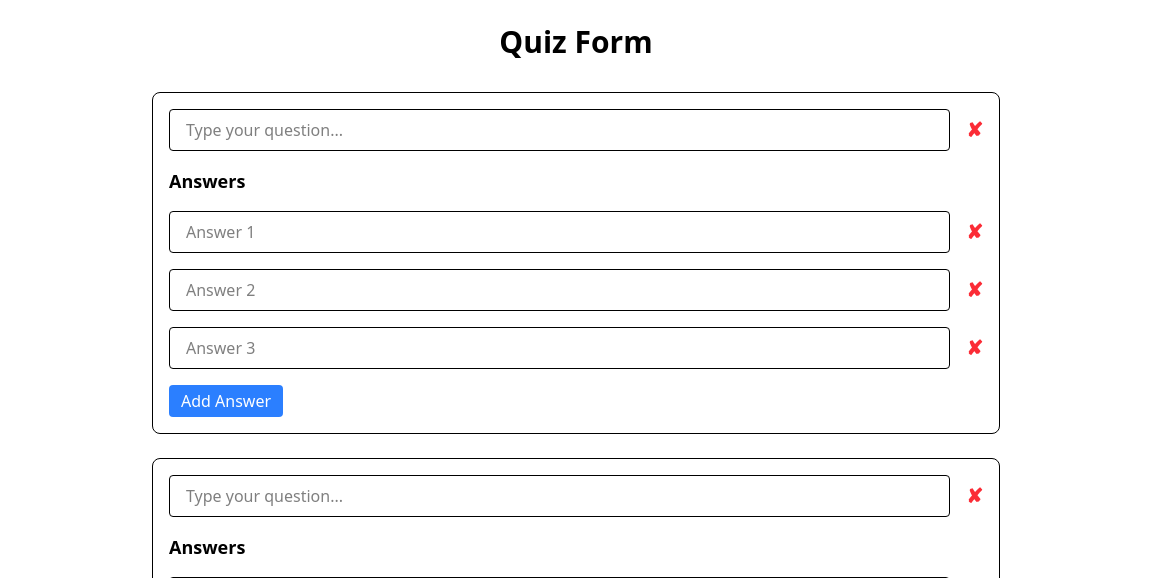
Test: Quiz Form E2E › Error Messages › Question Field Error Messages › should show error messages for question field when dirty
This screenshot has width=1152, height=578.
In the 1st field with placeholder "Type your question...": {"x": 560, "y": 130} [169,109,950,151], type "Q"
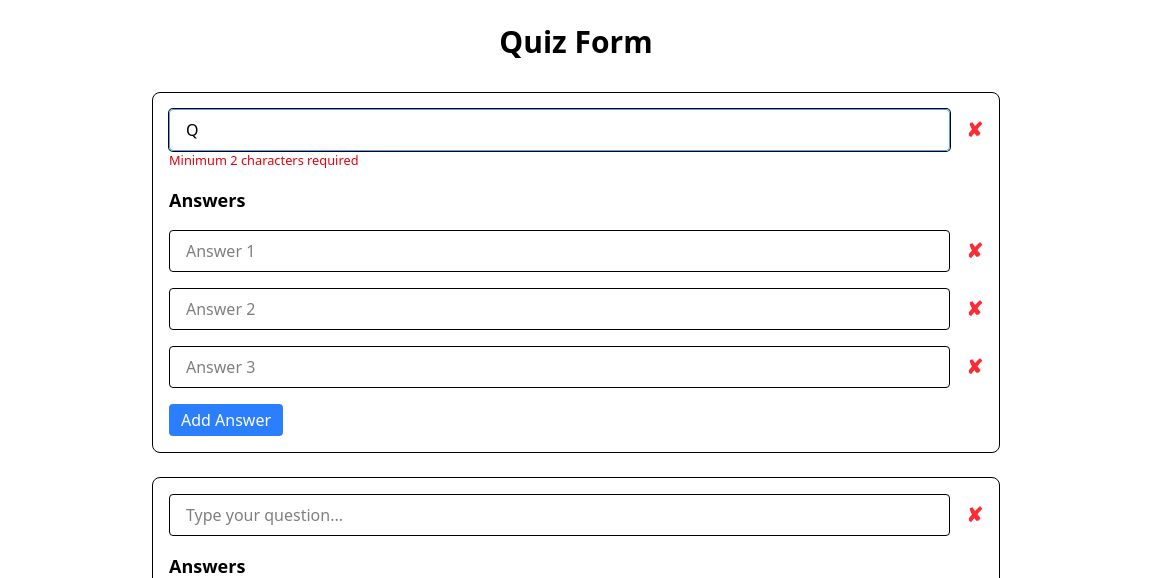
Clear the field with placeholder "Type your question...": {"x": 560, "y": 130} [169,109,950,151]
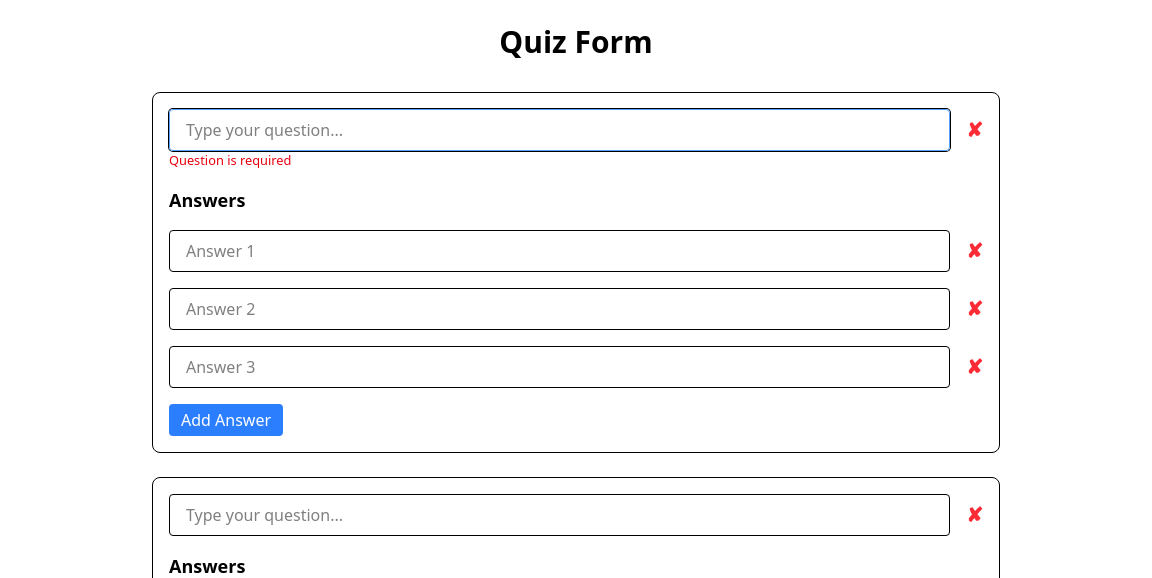
Check: the text "Question is required" is shown, box [169,151,291,169]
